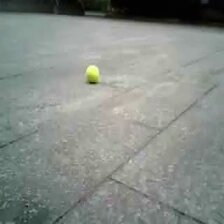tennis: (86, 66, 100, 82)
